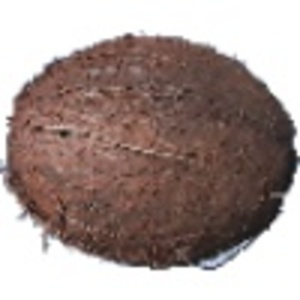coco: (1, 34, 300, 272)
